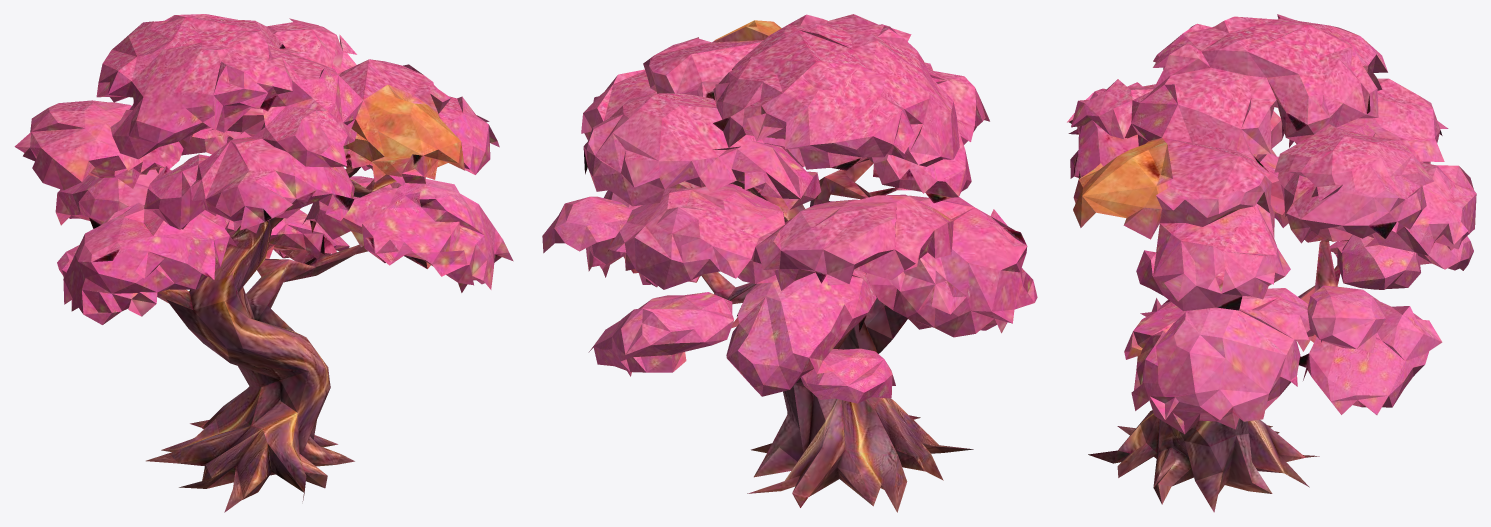
File: blossom.glb
3 views of the same model, side by side, from view 1: azimuth 30°, elevation 25°; view 2: azimuth 150°, elevation 25°; view 3: azimuth 270°, elevation 25° (orthographic). The views are drawn at different scales.
Visible parts, largest first — view 1: Mesh_0; view 2: Mesh_0; view 3: Mesh_0.
Boxes of the visible parts, x1,y1,x2,y2 form: Mesh_0: (14, 14, 513, 512); Mesh_0: (542, 14, 1037, 512); Mesh_0: (1067, 14, 1476, 512).
Bounding box in the file's own units: 1.02 × 1 × 0.8538.
1 material, 1 textured.
